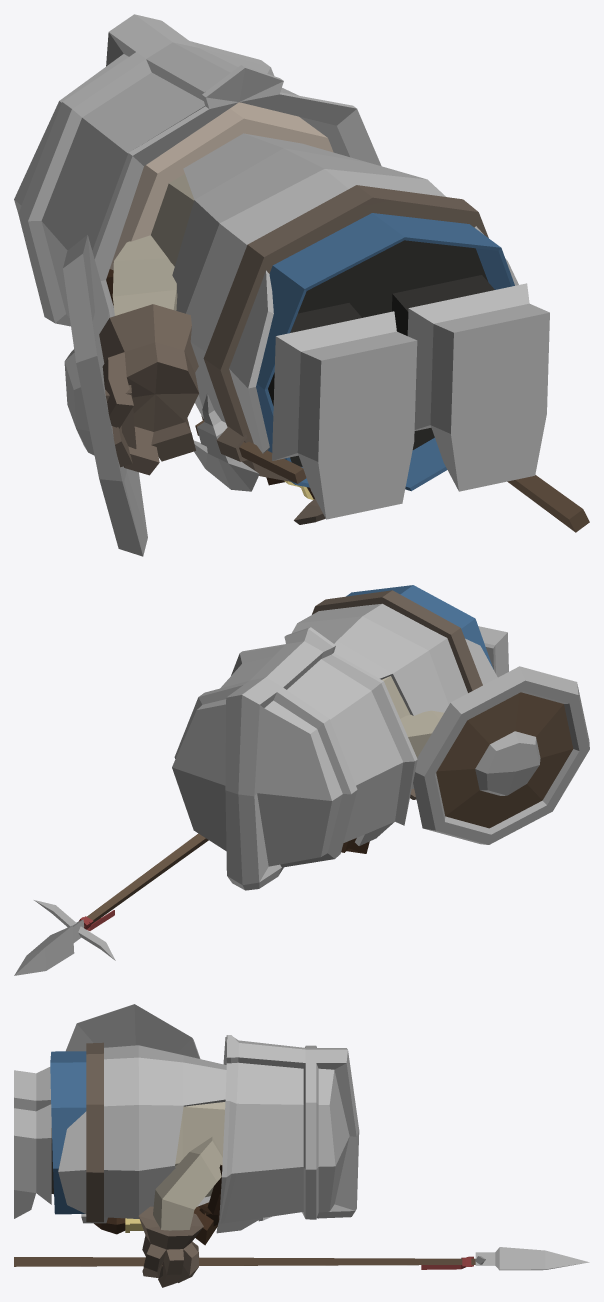
File: Player 2.fbx
3 views of the same model, one above another, from view 1: azimuth 30°, elevation 25°; view 2: azimuth 150°, elevation 25°; view 3: azimuth 270°, elevation 25° (orthographic). The views are drawn at different scales.
Parts seen in each view (by area): view 1: DwarfGuard_GEO; view 2: DwarfGuard_GEO; view 3: DwarfGuard_GEO.
Part boxes in pixels (x1,y1,x2,y2): DwarfGuard_GEO: [14, 14, 589, 556]; DwarfGuard_GEO: [14, 585, 589, 975]; DwarfGuard_GEO: [14, 1004, 589, 1287].
Size of the model in its own units: 3218 by 5830 by 2392.
